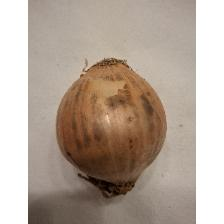Zwiebel: (54, 55, 170, 201)
